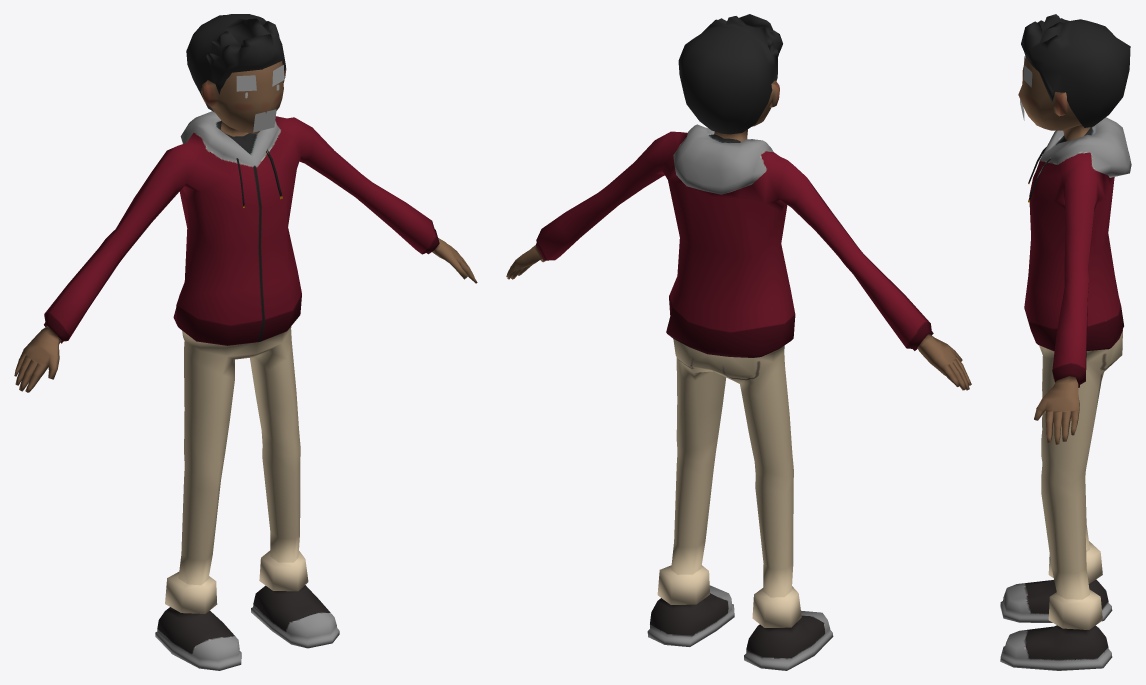
File: NPC1_toMiximo_1.fbx
3 renders of one model, left to right at view 1: azimuth 30°, elevation 25°; view 2: azimuth 150°, elevation 25°; view 3: azimuth 270°, elevation 25°, orthographic.
Parts seen in each view (by area): view 1: Mesh; view 2: Mesh; view 3: Mesh.
Boxes of the visible parts, <box> form: Mesh: <box>14,14,477,670</box>; Mesh: <box>506,14,971,670</box>; Mesh: <box>1000,14,1131,670</box>.
Bounding box in the file's own units: 128 × 165 × 31.95.
6 materials, 1 textured.
